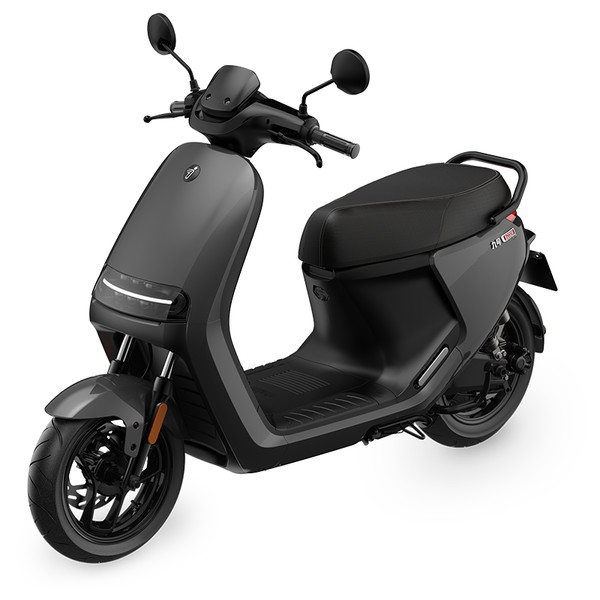MNV: (29, 12, 551, 548)
